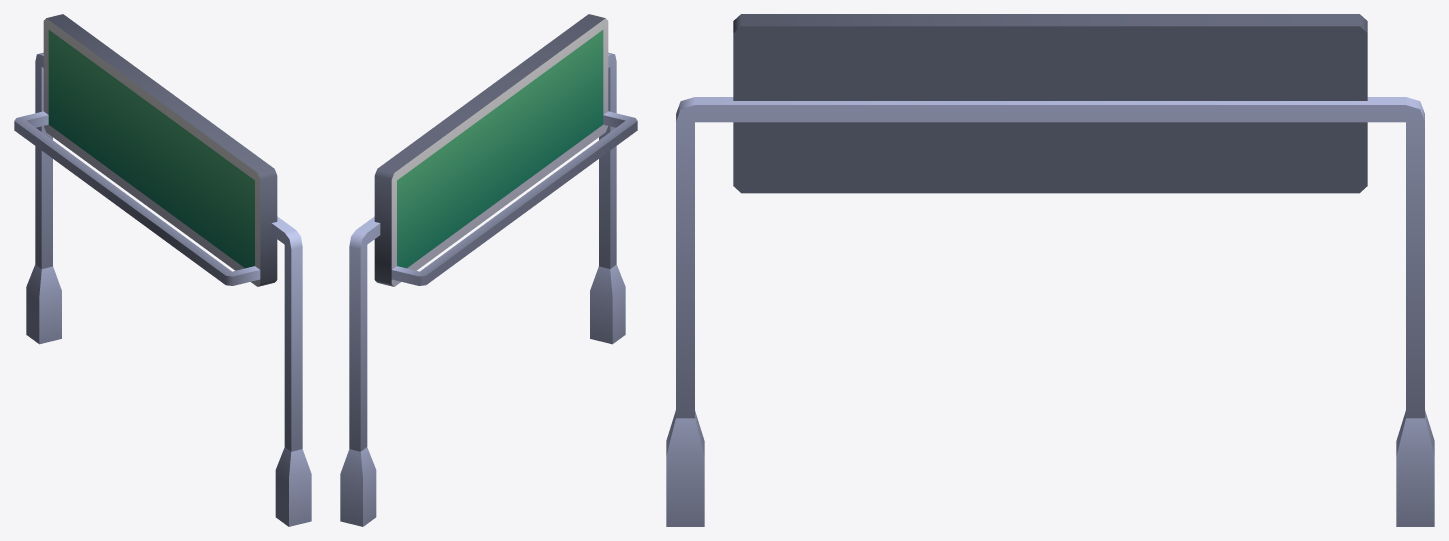
The model's file is sign-highway-wide.glb.
The picture shows the model from 3 angles, left to right: view 1: azimuth 30°, elevation 25°; view 2: azimuth 150°, elevation 25°; view 3: azimuth 270°, elevation 25°; orthographic projection. The views are drawn at different scales.
Visible parts, largest first — view 1: sign-highway-wide; view 2: sign-highway-wide; view 3: sign-highway-wide.
Boxes of the visible parts, left/top/right/bottom form: sign-highway-wide: left=14, top=14, right=311, bottom=526; sign-highway-wide: left=340, top=14, right=637, bottom=526; sign-highway-wide: left=666, top=14, right=1434, bottom=526.
Bounding box in the file's own units: 0.1324 × 0.7074 × 1.
1 material, 1 textured.
